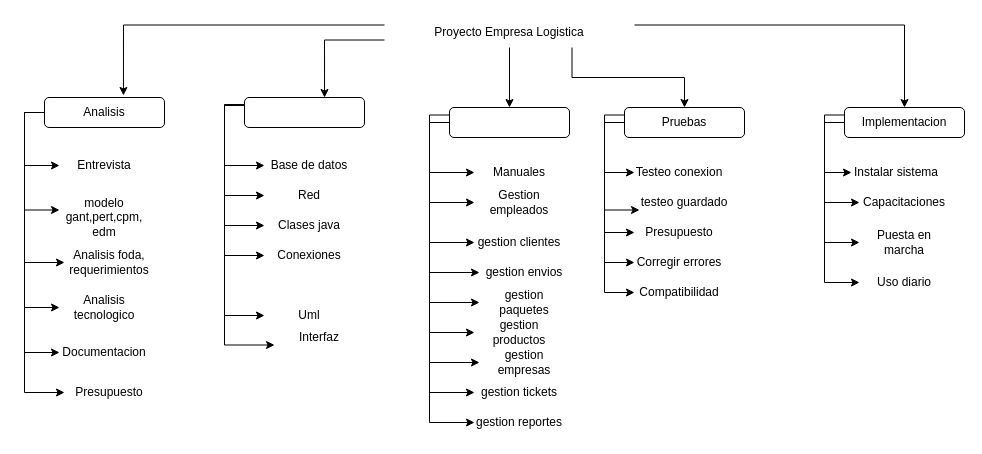
Some shapes in this 982 by 454 pixel diagram are drawn without their labels. The box of each missing label's shape, as (x1, y1, x2, y2) in pixels:
Desarrollo: (448, 106, 570, 138)
Diseño: (244, 96, 364, 128)
